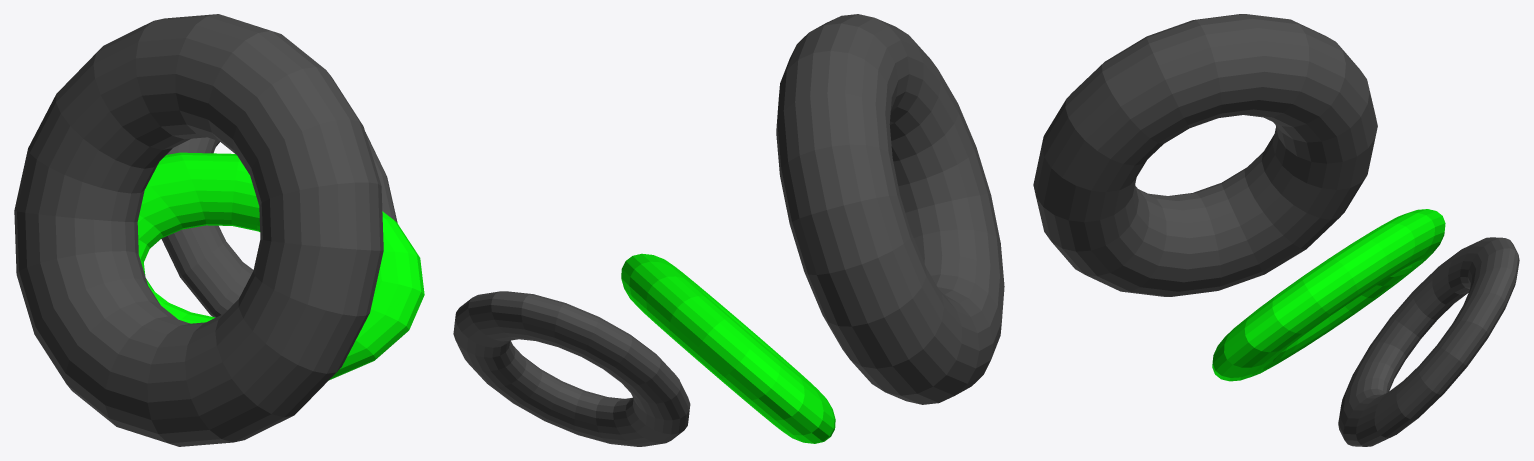
File: effect_blinn_transparency_param.dae
3 renders of one model, left to right at view 1: azimuth 30°, elevation 25°; view 2: azimuth 150°, elevation 25°; view 3: azimuth 270°, elevation 25°, orthographic. The views are drawn at different scales.
Parts seen in each view (by area): view 1: pTorus3, pTorus1, pTorus2; view 2: pTorus3, pTorus2, pTorus1; view 3: pTorus3, pTorus2, pTorus1.
Boxes of the visible parts, x1,y1,x2,y2 form: pTorus3: (14, 14, 383, 446); pTorus1: (137, 152, 424, 380); pTorus2: (161, 132, 397, 317); pTorus3: (776, 14, 1004, 404); pTorus2: (453, 291, 690, 446); pTorus1: (621, 253, 835, 443); pTorus3: (1033, 14, 1377, 296); pTorus2: (1338, 237, 1519, 446); pTorus1: (1212, 209, 1445, 381).
Bounding box in the file's own units: 308 × 283 × 357.
